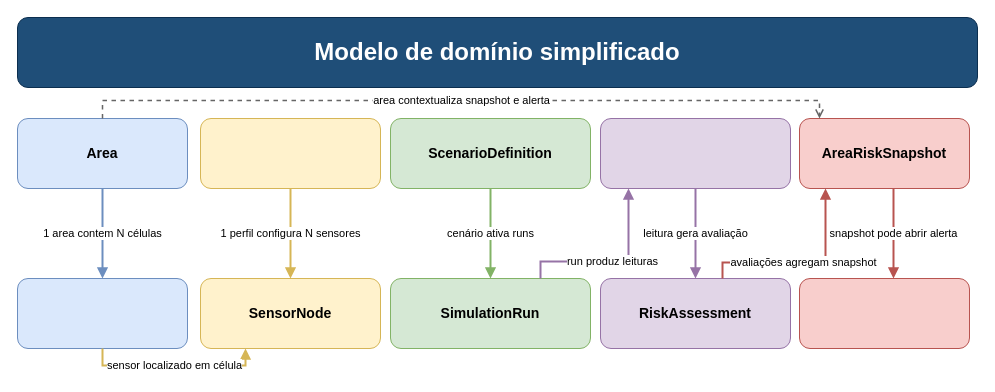
The diagram is 995 pixels wide and 392 high, and some of its shapes have lost their labels. Each missing label, with the centre of its shape:
"AcceptedReading" goes at pixel 695 153.
"AlertState" goes at pixel 884 313.
"GridCell" goes at pixel 102 313.
"SensorProfile" goes at pixel 290 153.
